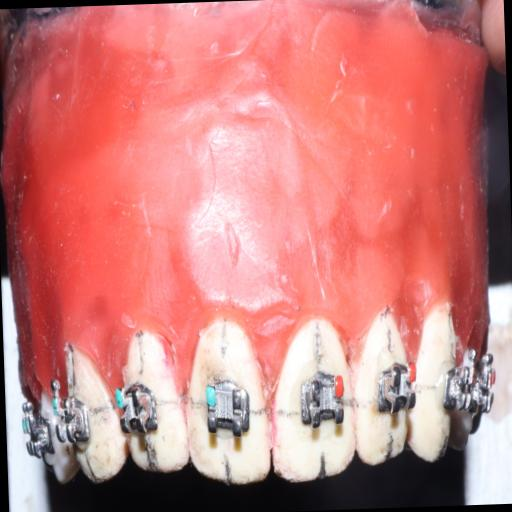incorrect_brace: (350, 300, 420, 478), (200, 372, 254, 450), (297, 366, 352, 436), (372, 354, 420, 424)
